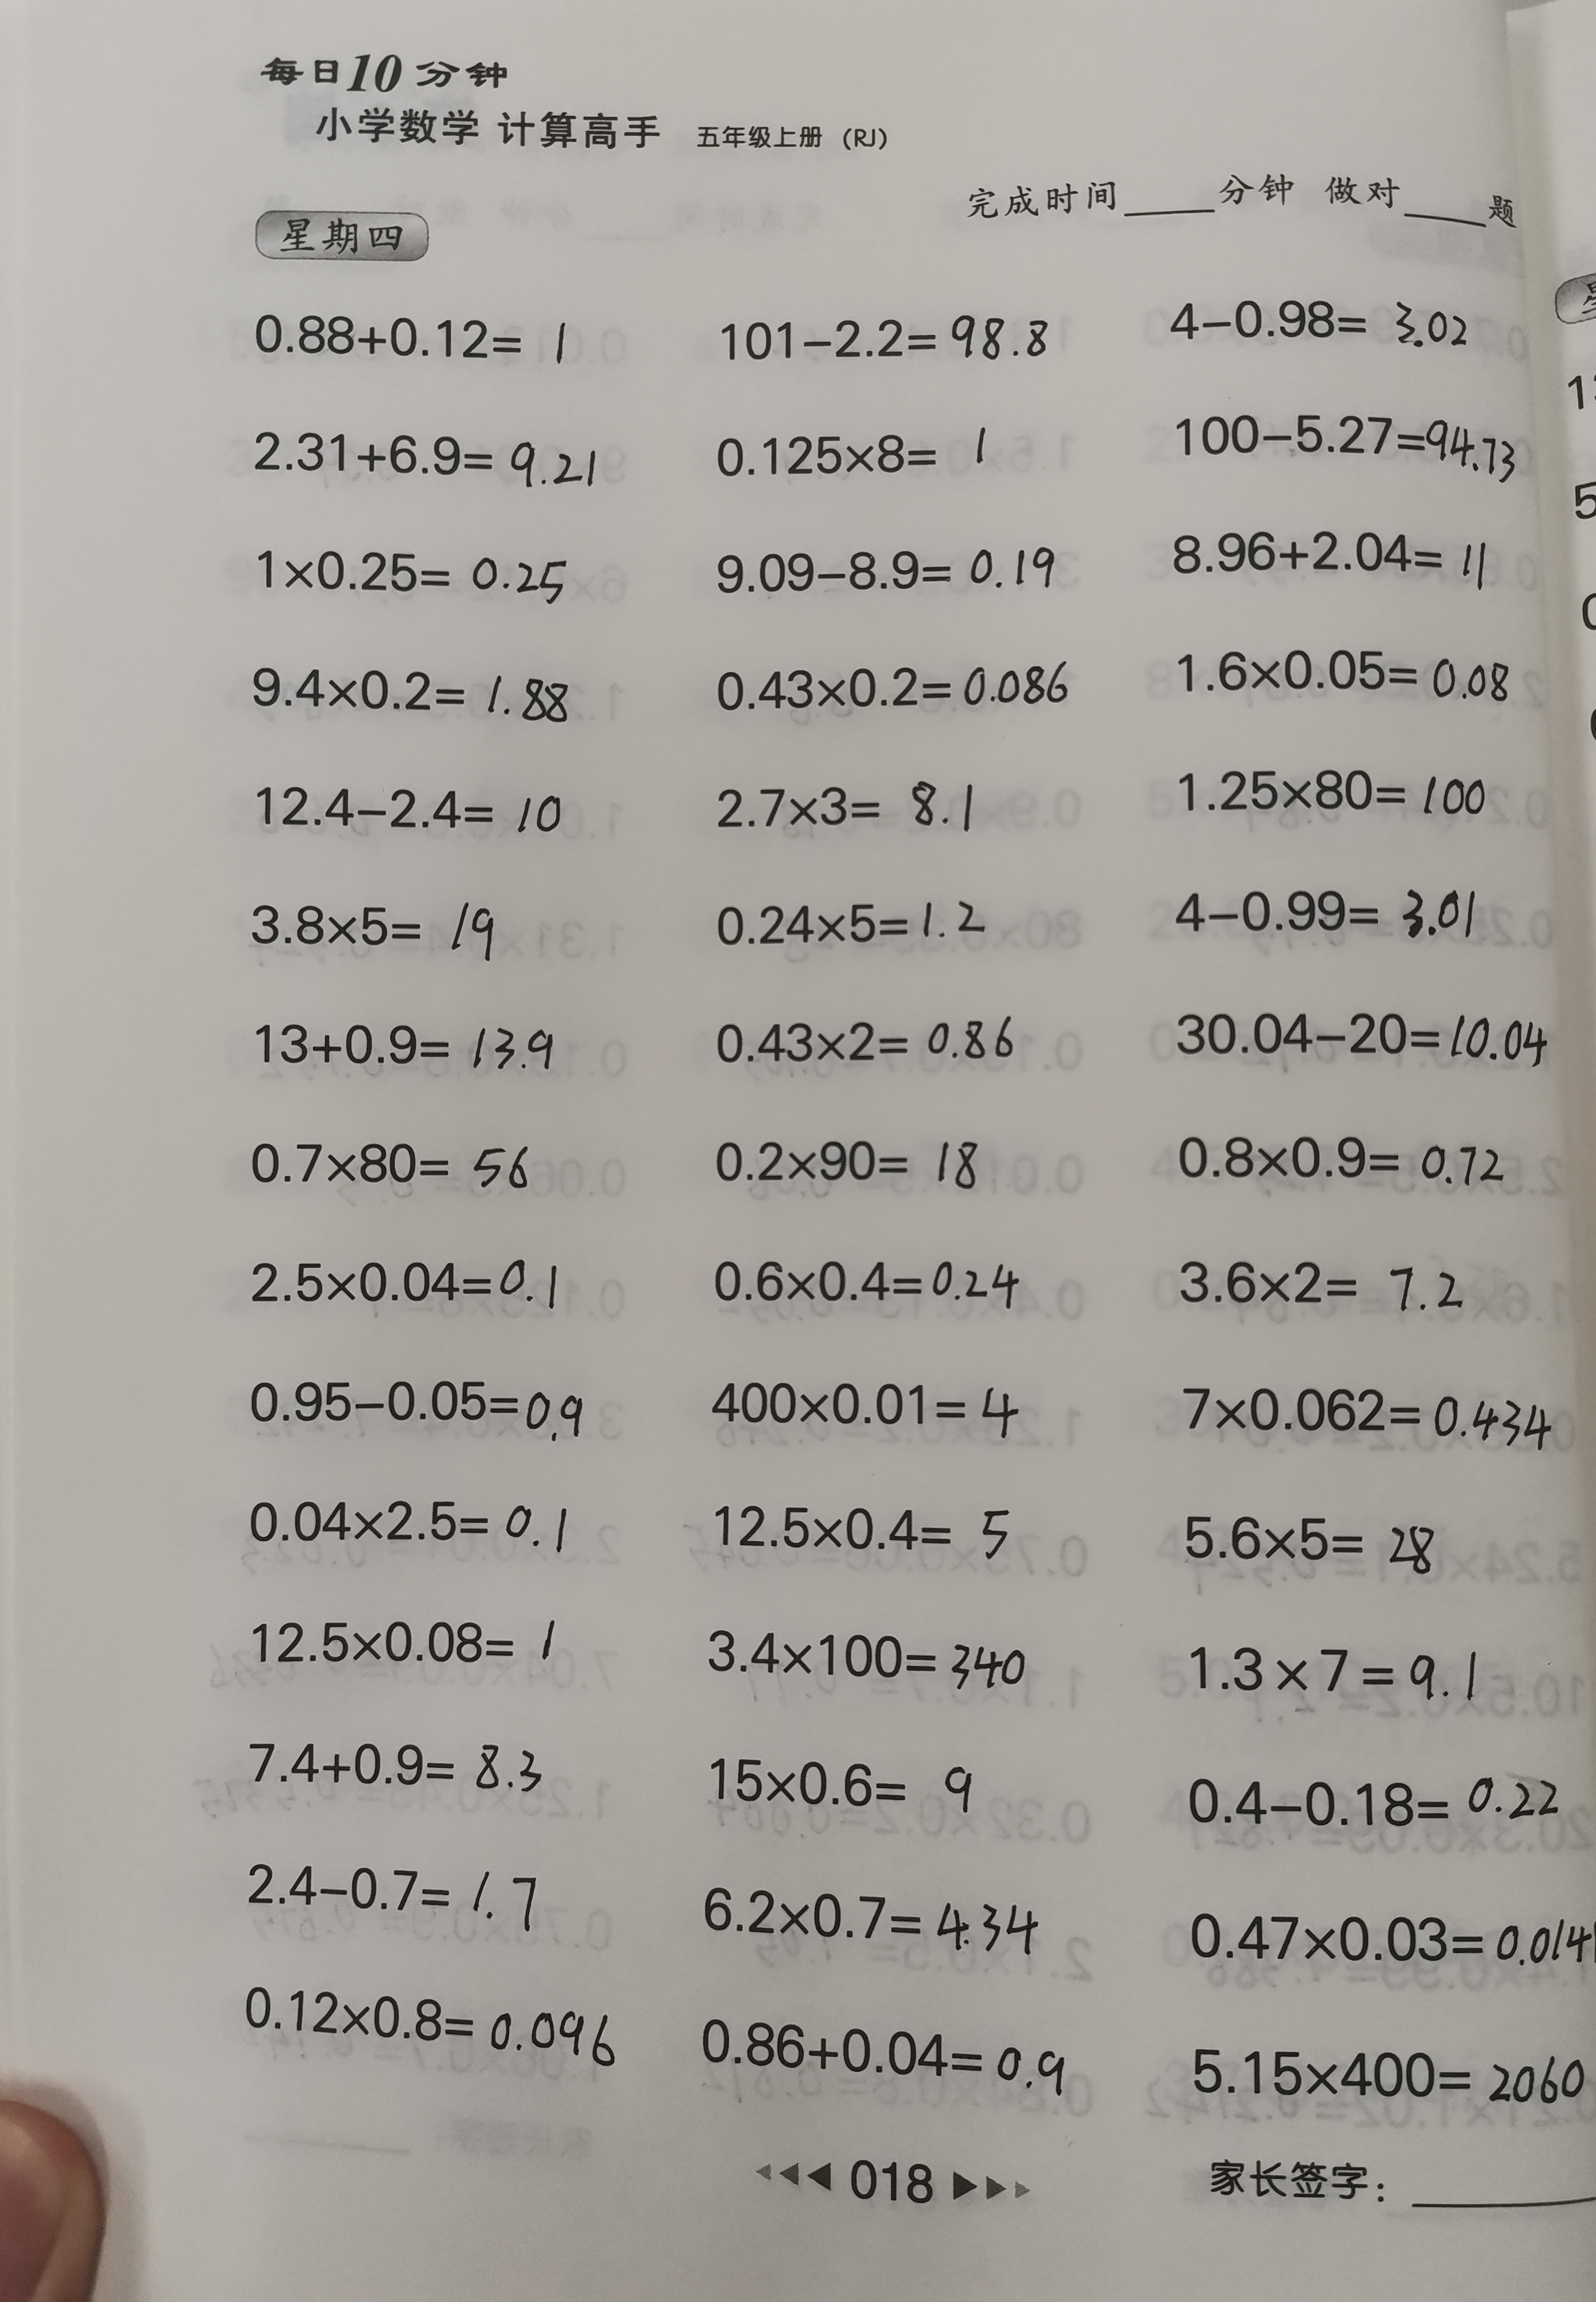equation: (690, 2003, 1087, 2110), (234, 1975, 633, 2080), (1157, 988, 1570, 1081), (1180, 2026, 1596, 2117), (1155, 1366, 1565, 1455), (224, 413, 628, 502), (238, 1357, 605, 1455), (690, 1866, 1058, 1964), (1169, 1889, 1596, 1973), (1159, 397, 1530, 493), (227, 523, 601, 614), (1155, 623, 1528, 714), (685, 1611, 1049, 1704), (1169, 1761, 1586, 1842), (1164, 1618, 1510, 1714), (234, 1847, 575, 1943), (224, 761, 584, 850), (229, 294, 596, 381), (696, 642, 1087, 721), (701, 532, 1084, 612), (220, 654, 593, 735), (1155, 864, 1503, 950), (1159, 1118, 1528, 1198), (232, 1595, 577, 1681), (690, 1237, 1047, 1319), (696, 1366, 1035, 1450), (1168, 1494, 1475, 1585), (1161, 518, 1507, 598), (232, 1721, 563, 1805), (703, 296, 1063, 373), (1159, 287, 1495, 367), (1162, 752, 1505, 831), (238, 1489, 601, 1562), (699, 761, 1003, 847), (696, 1740, 998, 1826), (696, 873, 1005, 955), (696, 1001, 1040, 1074), (694, 1489, 1026, 1564), (229, 889, 526, 973), (238, 1245, 575, 1319), (692, 408, 1017, 483), (1161, 1242, 1477, 1319), (699, 1121, 1002, 1202), (246, 1008, 575, 1078), (239, 1130, 552, 1195)
